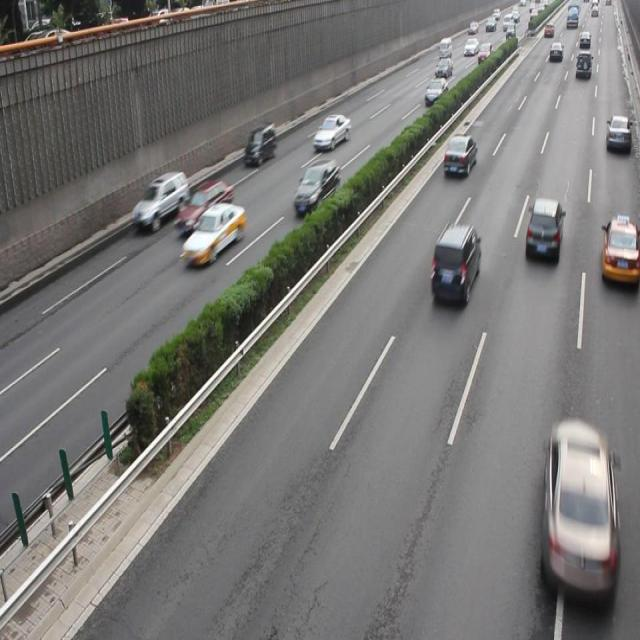car: (540, 418, 618, 595), (181, 202, 246, 263), (132, 170, 188, 233), (177, 176, 233, 234), (599, 218, 640, 286), (292, 159, 338, 217), (523, 198, 561, 262), (442, 134, 476, 178), (312, 112, 349, 150), (604, 115, 629, 154)
truck: (429, 222, 480, 304), (244, 122, 275, 165)
